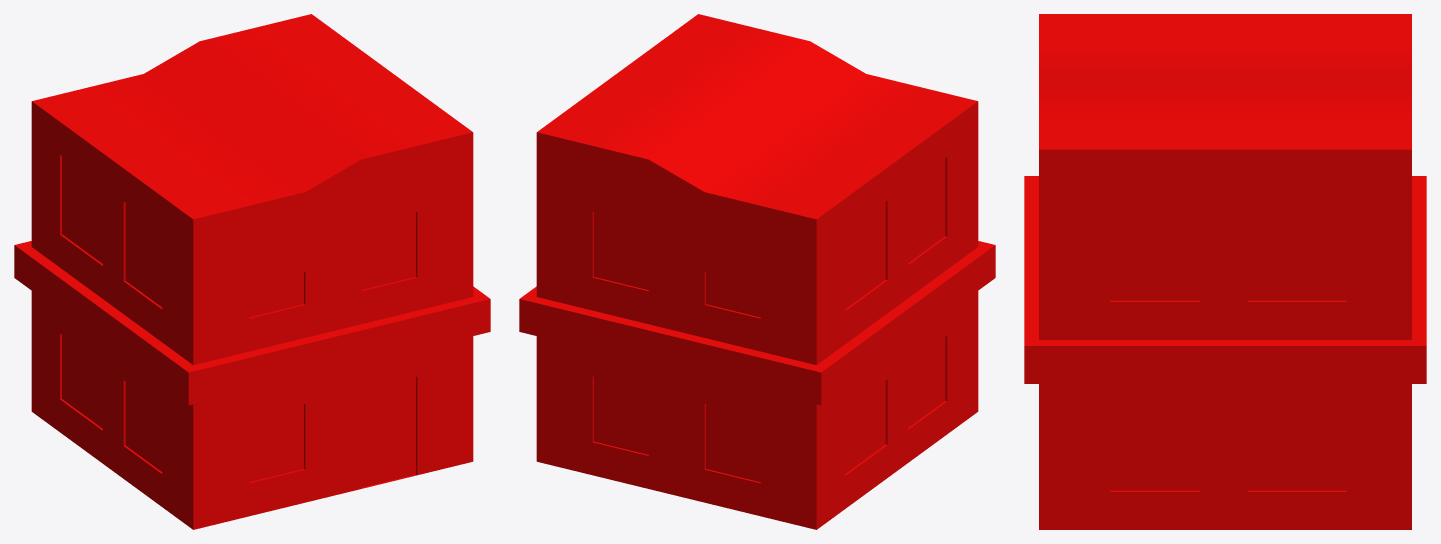
Rendered from House2_M_v1_Carrie.fbx.
3 renders of one model, left to right at view 1: azimuth 30°, elevation 25°; view 2: azimuth 150°, elevation 25°; view 3: azimuth 270°, elevation 25°, orthographic. The views are drawn at different scales.
Visible parts, largest first — view 1: House2_low; view 2: House2_low; view 3: House2_low.
Part boxes in pixels (<box>): House2_low: <box>14,14,490,529</box>; House2_low: <box>519,14,995,529</box>; House2_low: <box>1024,14,1426,529</box>.
Bounding box in the file's own units: 1093 × 1139 × 1093.
